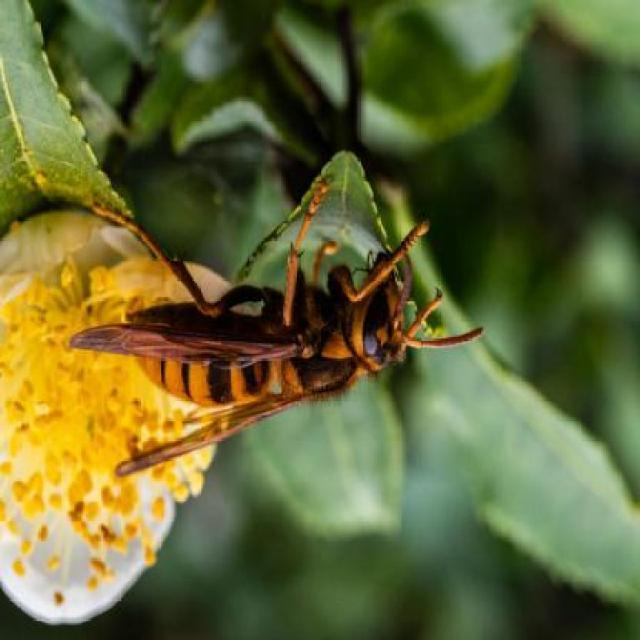Wasp: (62, 179, 491, 479)
